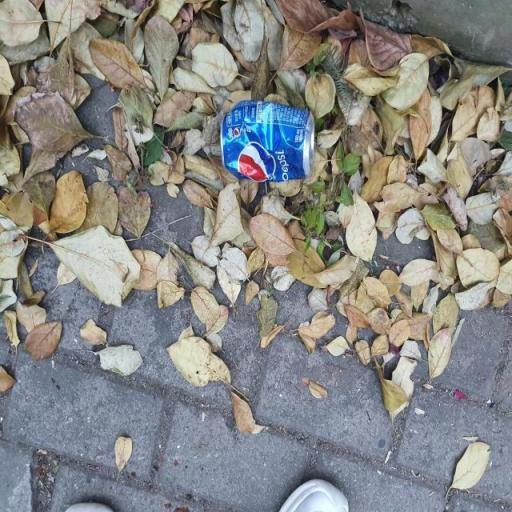metal: (211, 90, 319, 197)
